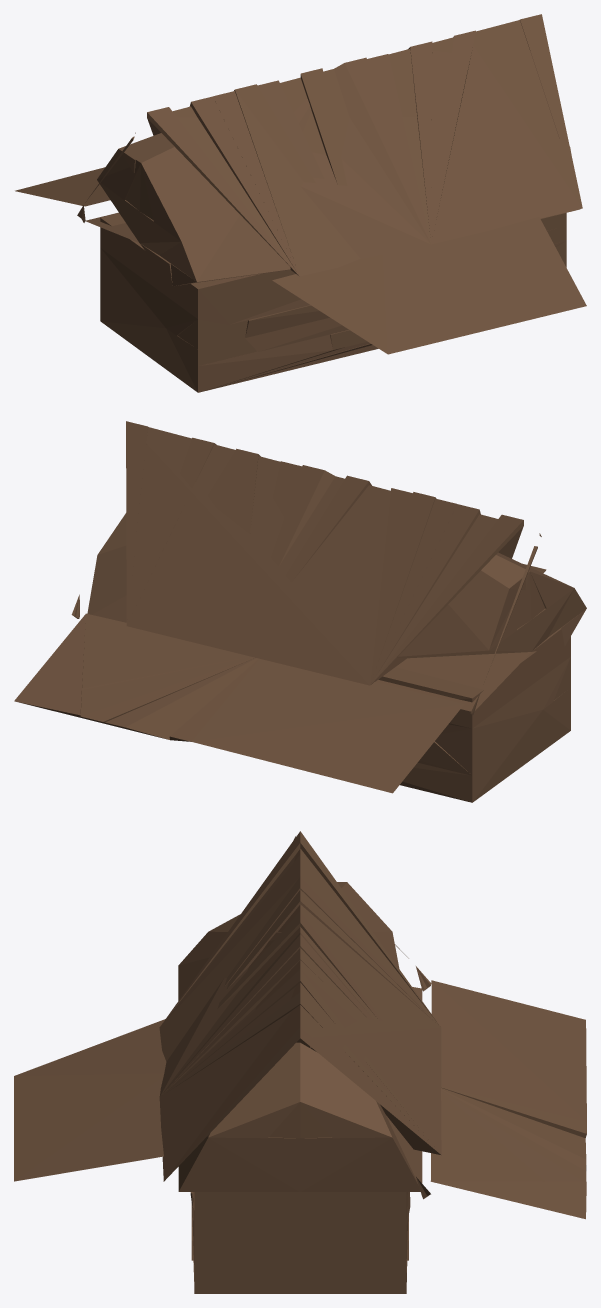
File: sawmill.lod2.glb
3 views of the same model, one above another, from view 1: azimuth 30°, elevation 25°; view 2: azimuth 150°, elevation 25°; view 3: azimuth 270°, elevation 25° (orthographic). The views are drawn at different scales.
Visible parts, largest first — view 1: Sawmill_Default_0; view 2: Sawmill_Default_0; view 3: Sawmill_Default_0.
Part boxes in pixels (left/top/right/bottom): Sawmill_Default_0: left=15, top=14, right=586, bottom=392; Sawmill_Default_0: left=14, top=421, right=586, bottom=802; Sawmill_Default_0: left=14, top=831, right=586, bottom=1293.
Size of the model in its own units: 10.22 by 5.89 by 11.4.
